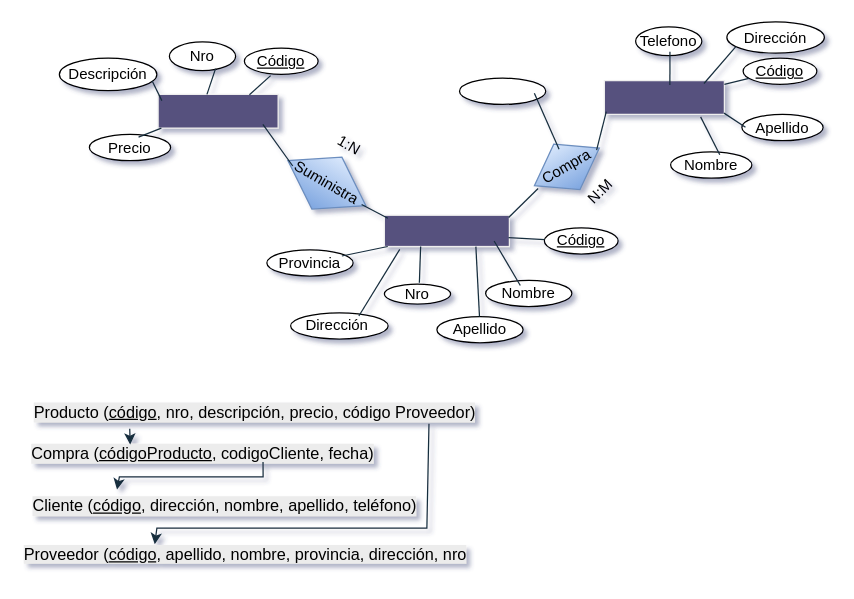
Some shapes in this 854 by 599 pixel diagram are drawn without their labels. Each missing label, with the centre of its shape:
"Cliente" belongs at (663,96).
"Fecha" belongs at (502,90).
"Producto" belongs at (217,110).
"Proveedor" belongs at (446,230).
